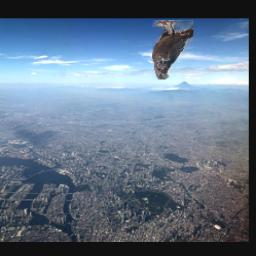Crow: (152, 20, 193, 80)
